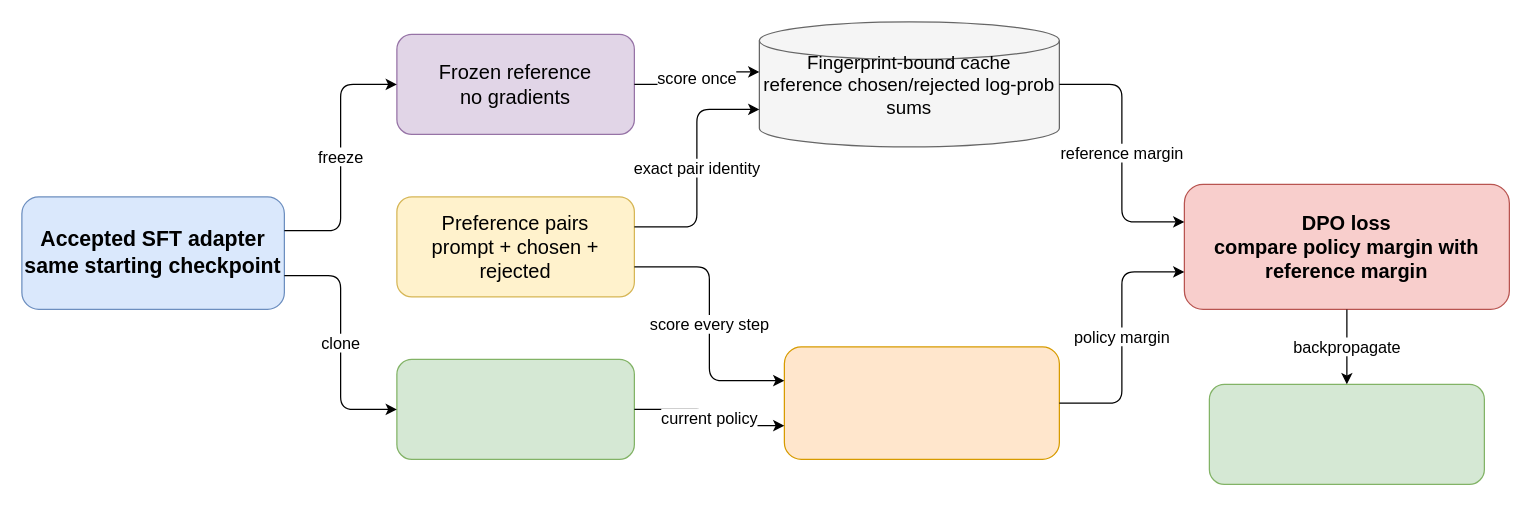
Some shapes in this 1531 by 506 pixel diagram are drawn without their labels. Here are the shapes that lost their labels. From the top down, the box of each, then its label:
(396, 358, 634, 459): Trainable policy clone DPO LoRA only
(783, 346, 1059, 459): Live policy scoring chosen/rejected log-prob sums
(1208, 383, 1484, 484): Update only the policy clone
